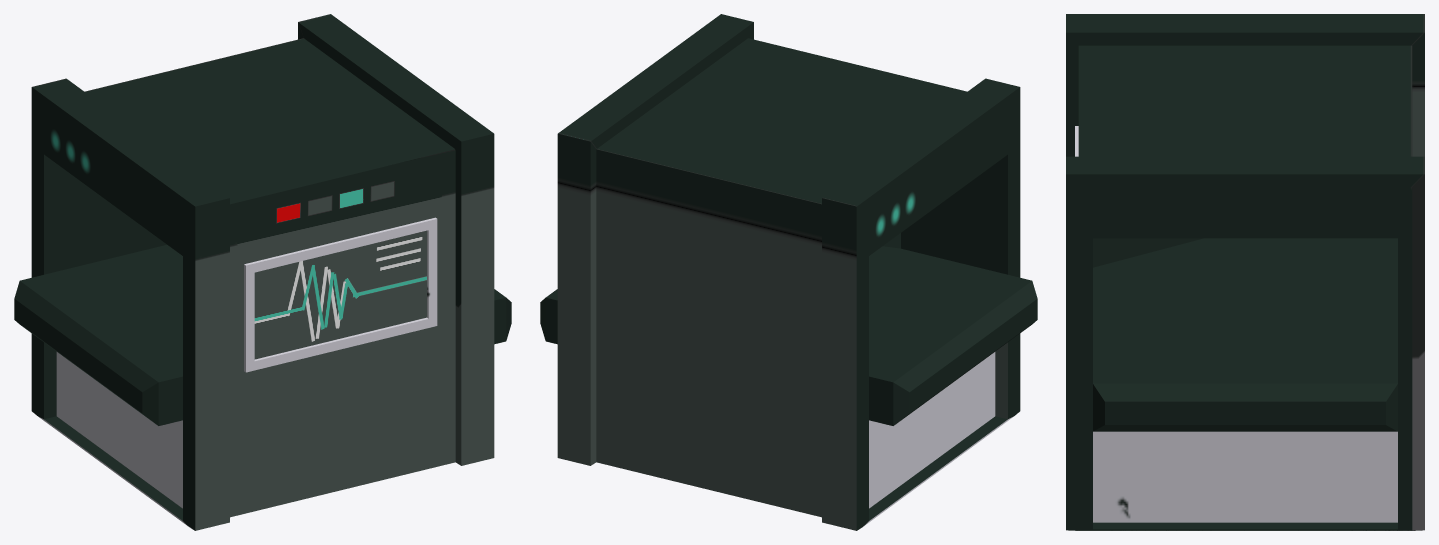
Rendered from Tool2.fbx.
3 renders of one model, left to right at view 1: azimuth 30°, elevation 25°; view 2: azimuth 150°, elevation 25°; view 3: azimuth 270°, elevation 25°, orthographic. The views are drawn at different scales.
Parts seen in each view (by area): view 1: Cube.017; view 2: Cube.017; view 3: Cube.017.
Part boxes in pixels (x1,y1,x2,y2): Cube.017: (14, 14, 511, 530); Cube.017: (540, 14, 1037, 530); Cube.017: (1066, 14, 1424, 530).
Bounding box in the file's own units: 108 × 90.68 × 82.68.
